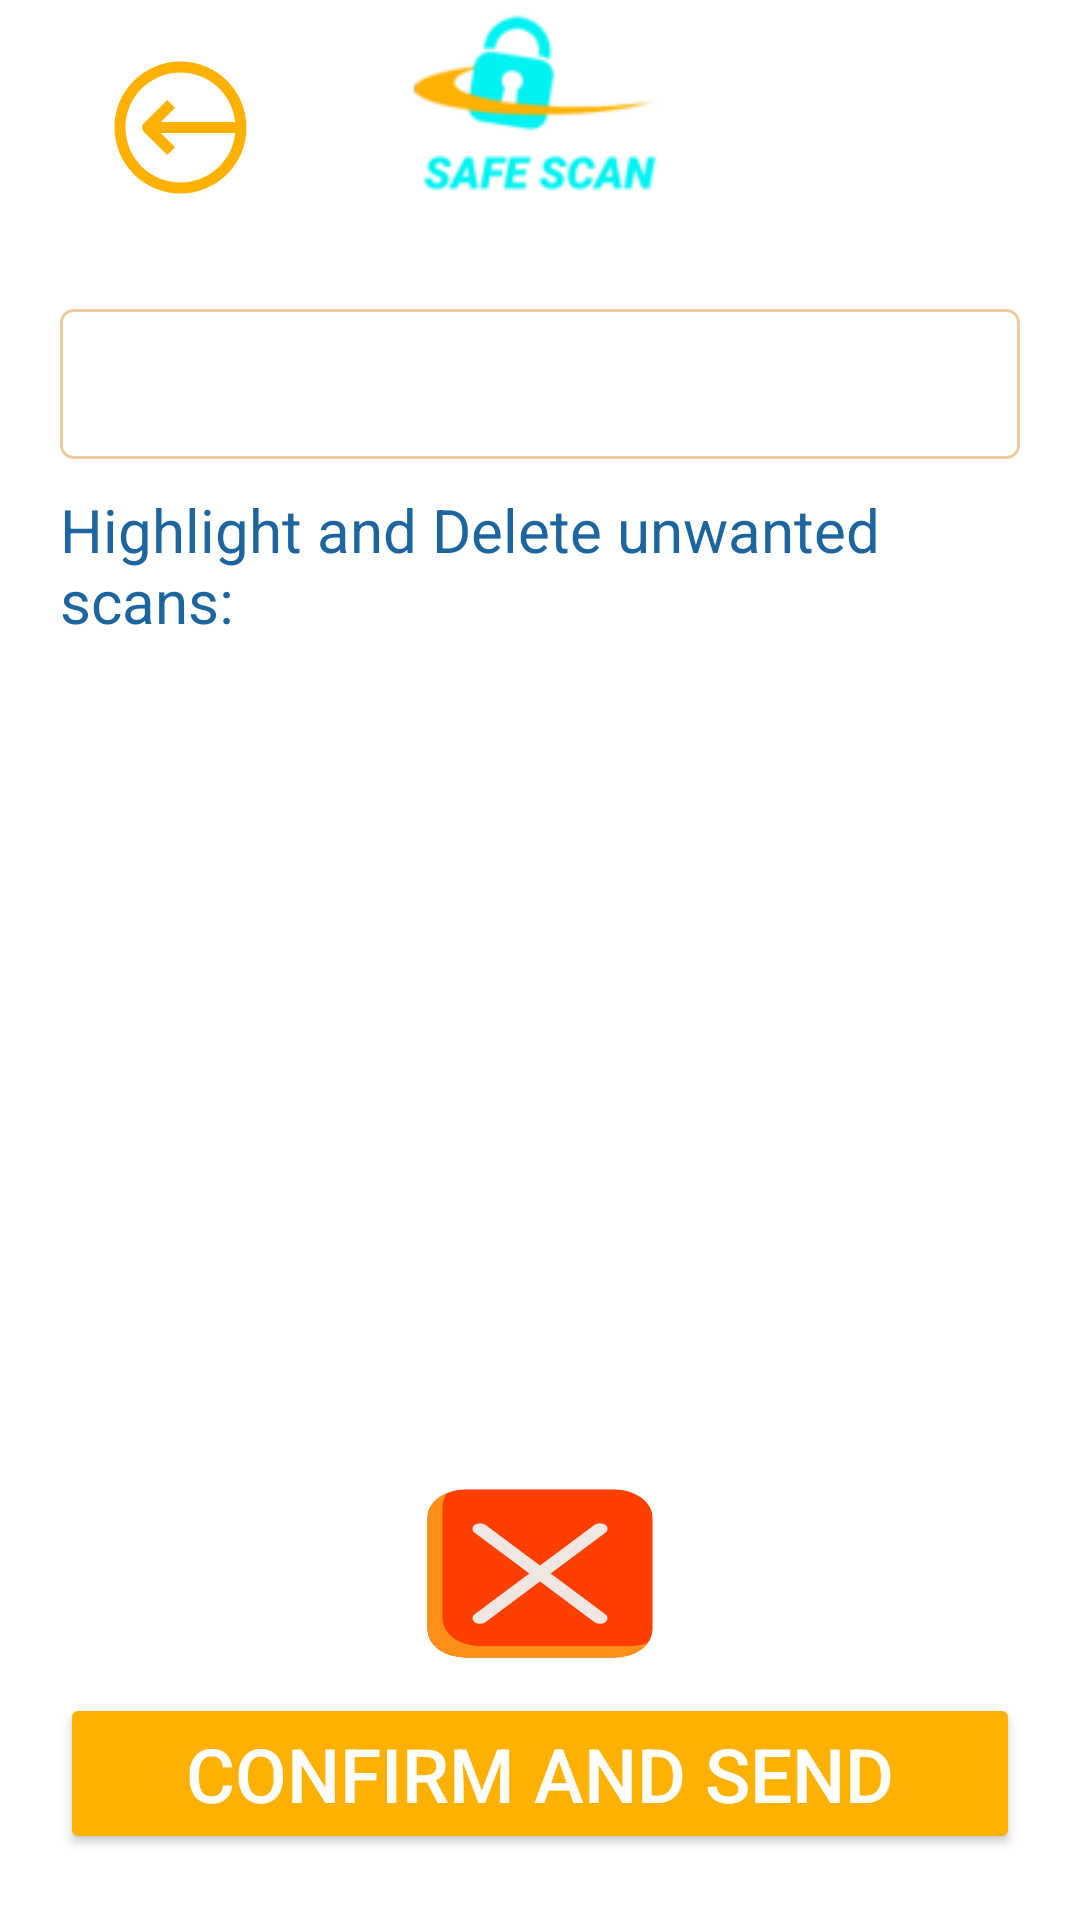

Point at icon controls on the screen. Image size 1080px x 1920px, points as (x=x, y=y).
delete: (x=540, y=1573)
Goto back: (x=180, y=127)
